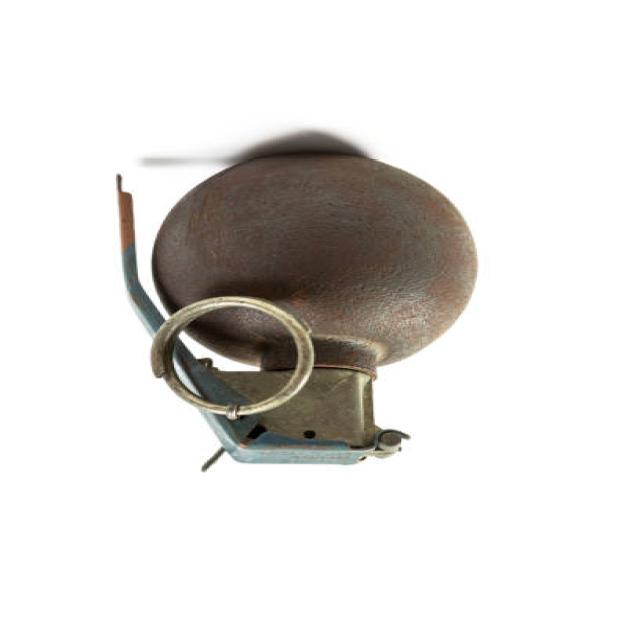grenade: (112, 150, 487, 482)
